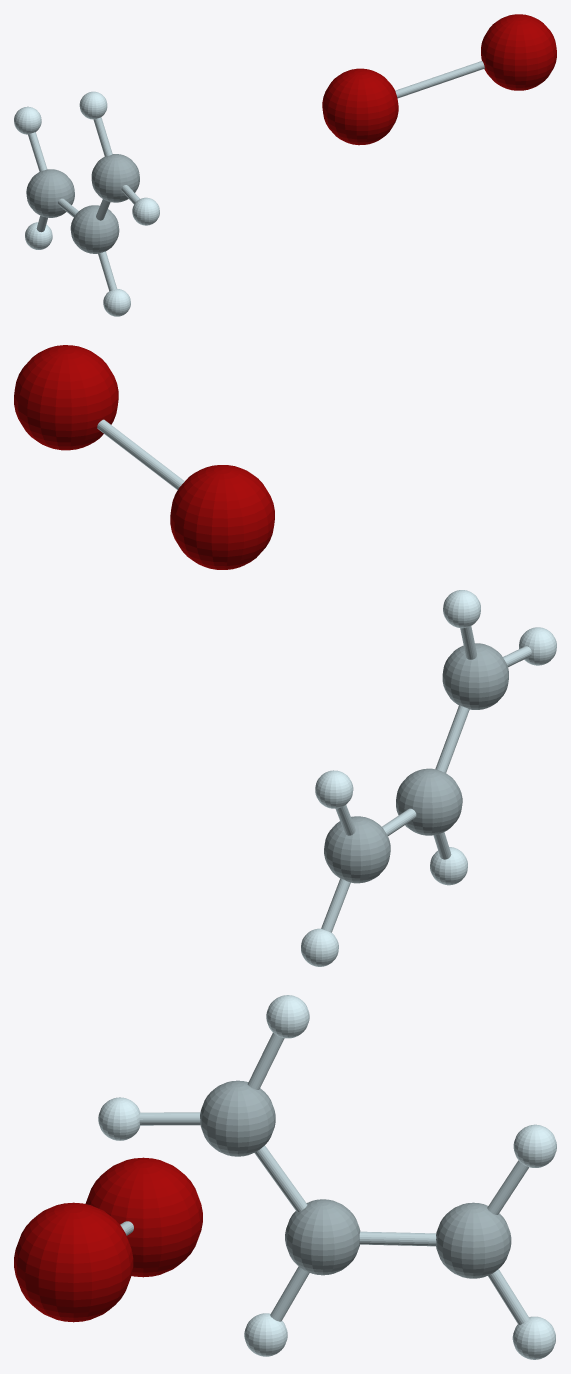
Rendered from irc_step_100.glb.
3 views of the same model, one above another, from view 1: azimuth 30°, elevation 25°; view 2: azimuth 150°, elevation 25°; view 3: azimuth 270°, elevation 25° (orthographic). The views are drawn at different scales.
Visible parts, largest first — view 1: Renderer Node; view 2: Renderer Node; view 3: Renderer Node.
Boxes of the visible parts, x1=… form: Renderer Node: x1=14, y1=14, x2=556, y2=316; Renderer Node: x1=14, y1=345, x2=556, y2=966; Renderer Node: x1=14, y1=995, x2=556, y2=1359.
Bounding box in the file's own units: 6.7 × 4.11 × 4.99.
